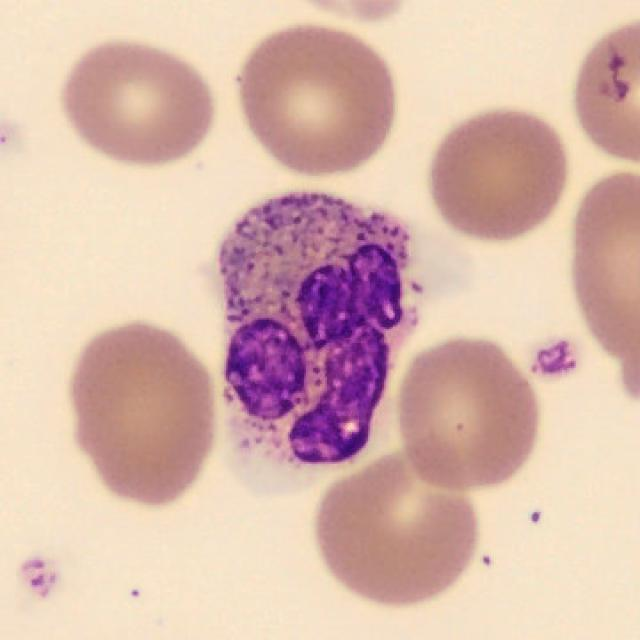Neutrofilo segmentado: (217, 192, 421, 491)
